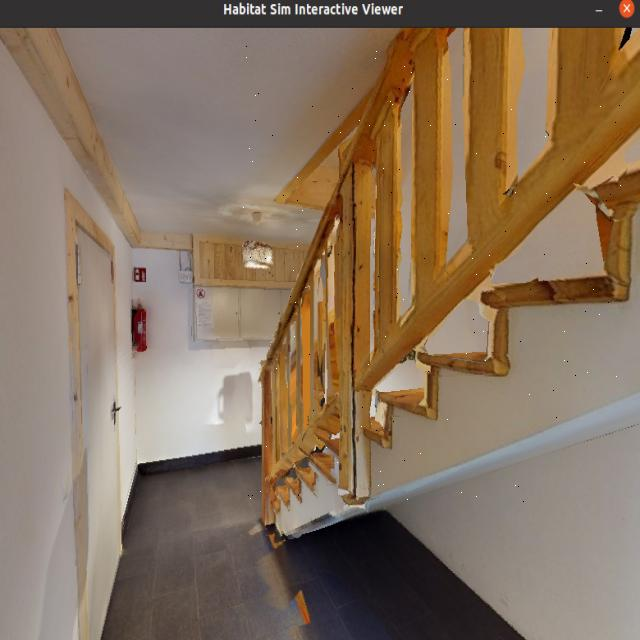stairs: (239, 22, 624, 506)
